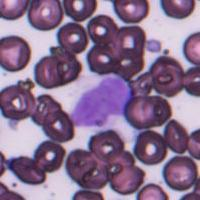M: (71, 74, 132, 129)
